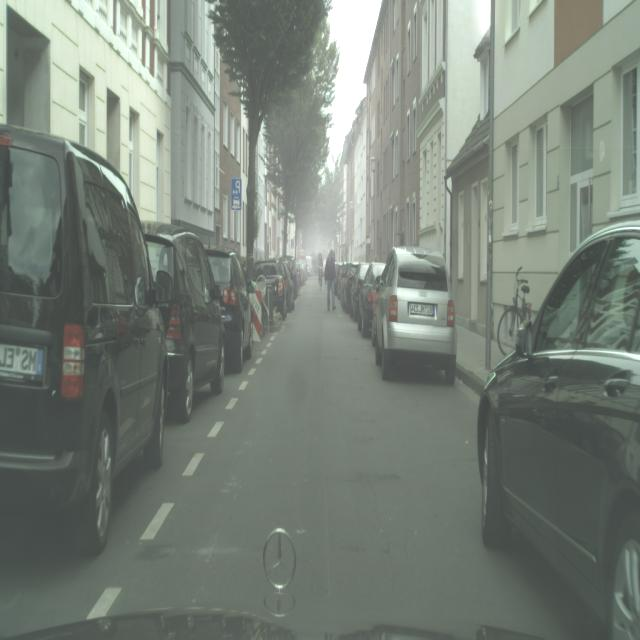car: (497, 265, 533, 356)
person: (324, 249, 336, 311)
truck: (0, 123, 169, 556), (476, 219, 639, 632), (143, 223, 227, 424), (371, 244, 457, 384), (204, 247, 253, 371), (253, 258, 288, 325), (356, 261, 384, 338), (243, 259, 268, 338), (278, 257, 297, 312), (341, 262, 360, 313), (346, 262, 362, 317), (287, 258, 299, 304), (291, 259, 301, 290), (297, 258, 308, 286)
